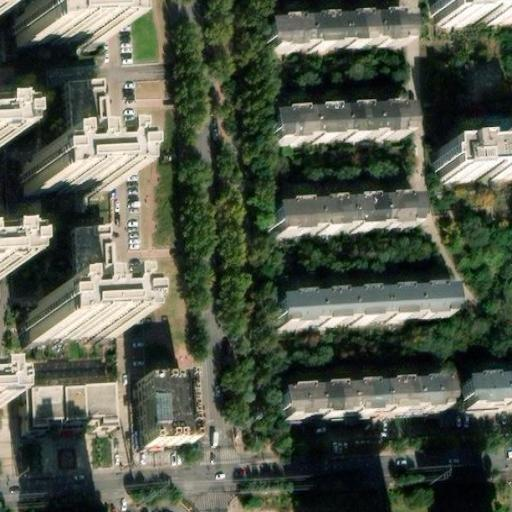building: (264, 288, 443, 328), (277, 386, 443, 420), (264, 201, 408, 238), (259, 106, 402, 142), (256, 19, 403, 54), (19, 394, 110, 441), (17, 311, 107, 353), (4, 18, 94, 59), (12, 168, 102, 209), (132, 378, 179, 448), (431, 144, 512, 175), (460, 379, 512, 410), (432, 0, 512, 17)
